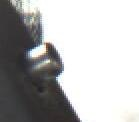screw: (19, 42, 64, 92)
